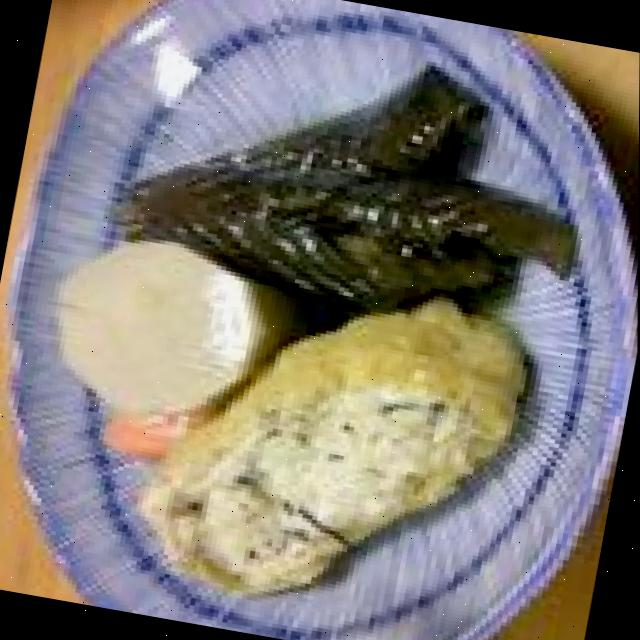熟制海鲜: (54, 0, 640, 640)
